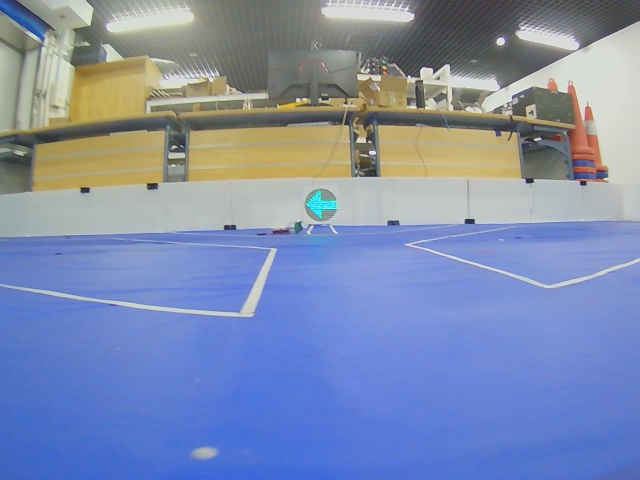left_green: (305, 188, 338, 222)
